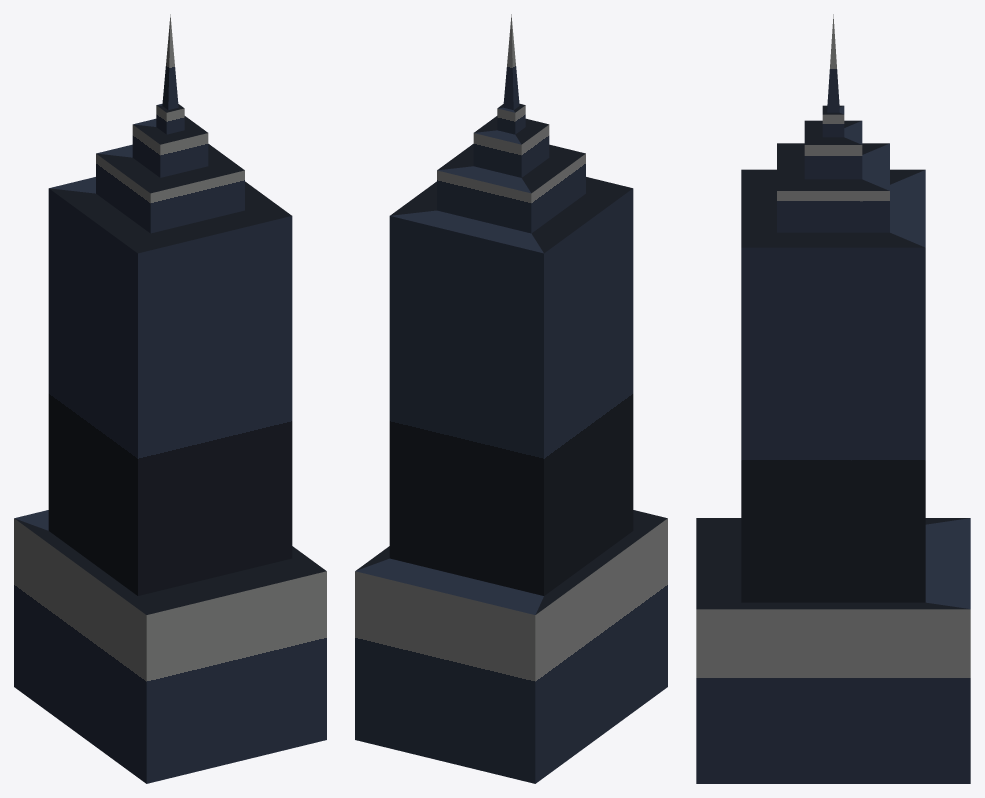
The model's file is Background_Building2.fbx.
3 renders of one model, left to right at view 1: azimuth 30°, elevation 25°; view 2: azimuth 150°, elevation 25°; view 3: azimuth 270°, elevation 25°, orthographic. The views are drawn at different scales.
Parts seen in each view (by area): view 1: Normal Building; view 2: Normal Building; view 3: Normal Building.
Part boxes in pixels (left/top/right/bottom): Normal Building: left=14, top=14, right=326, bottom=783; Normal Building: left=355, top=14, right=667, bottom=783; Normal Building: left=696, top=14, right=970, bottom=783.
Bounding box in the file's own units: 234 × 866 × 297.
